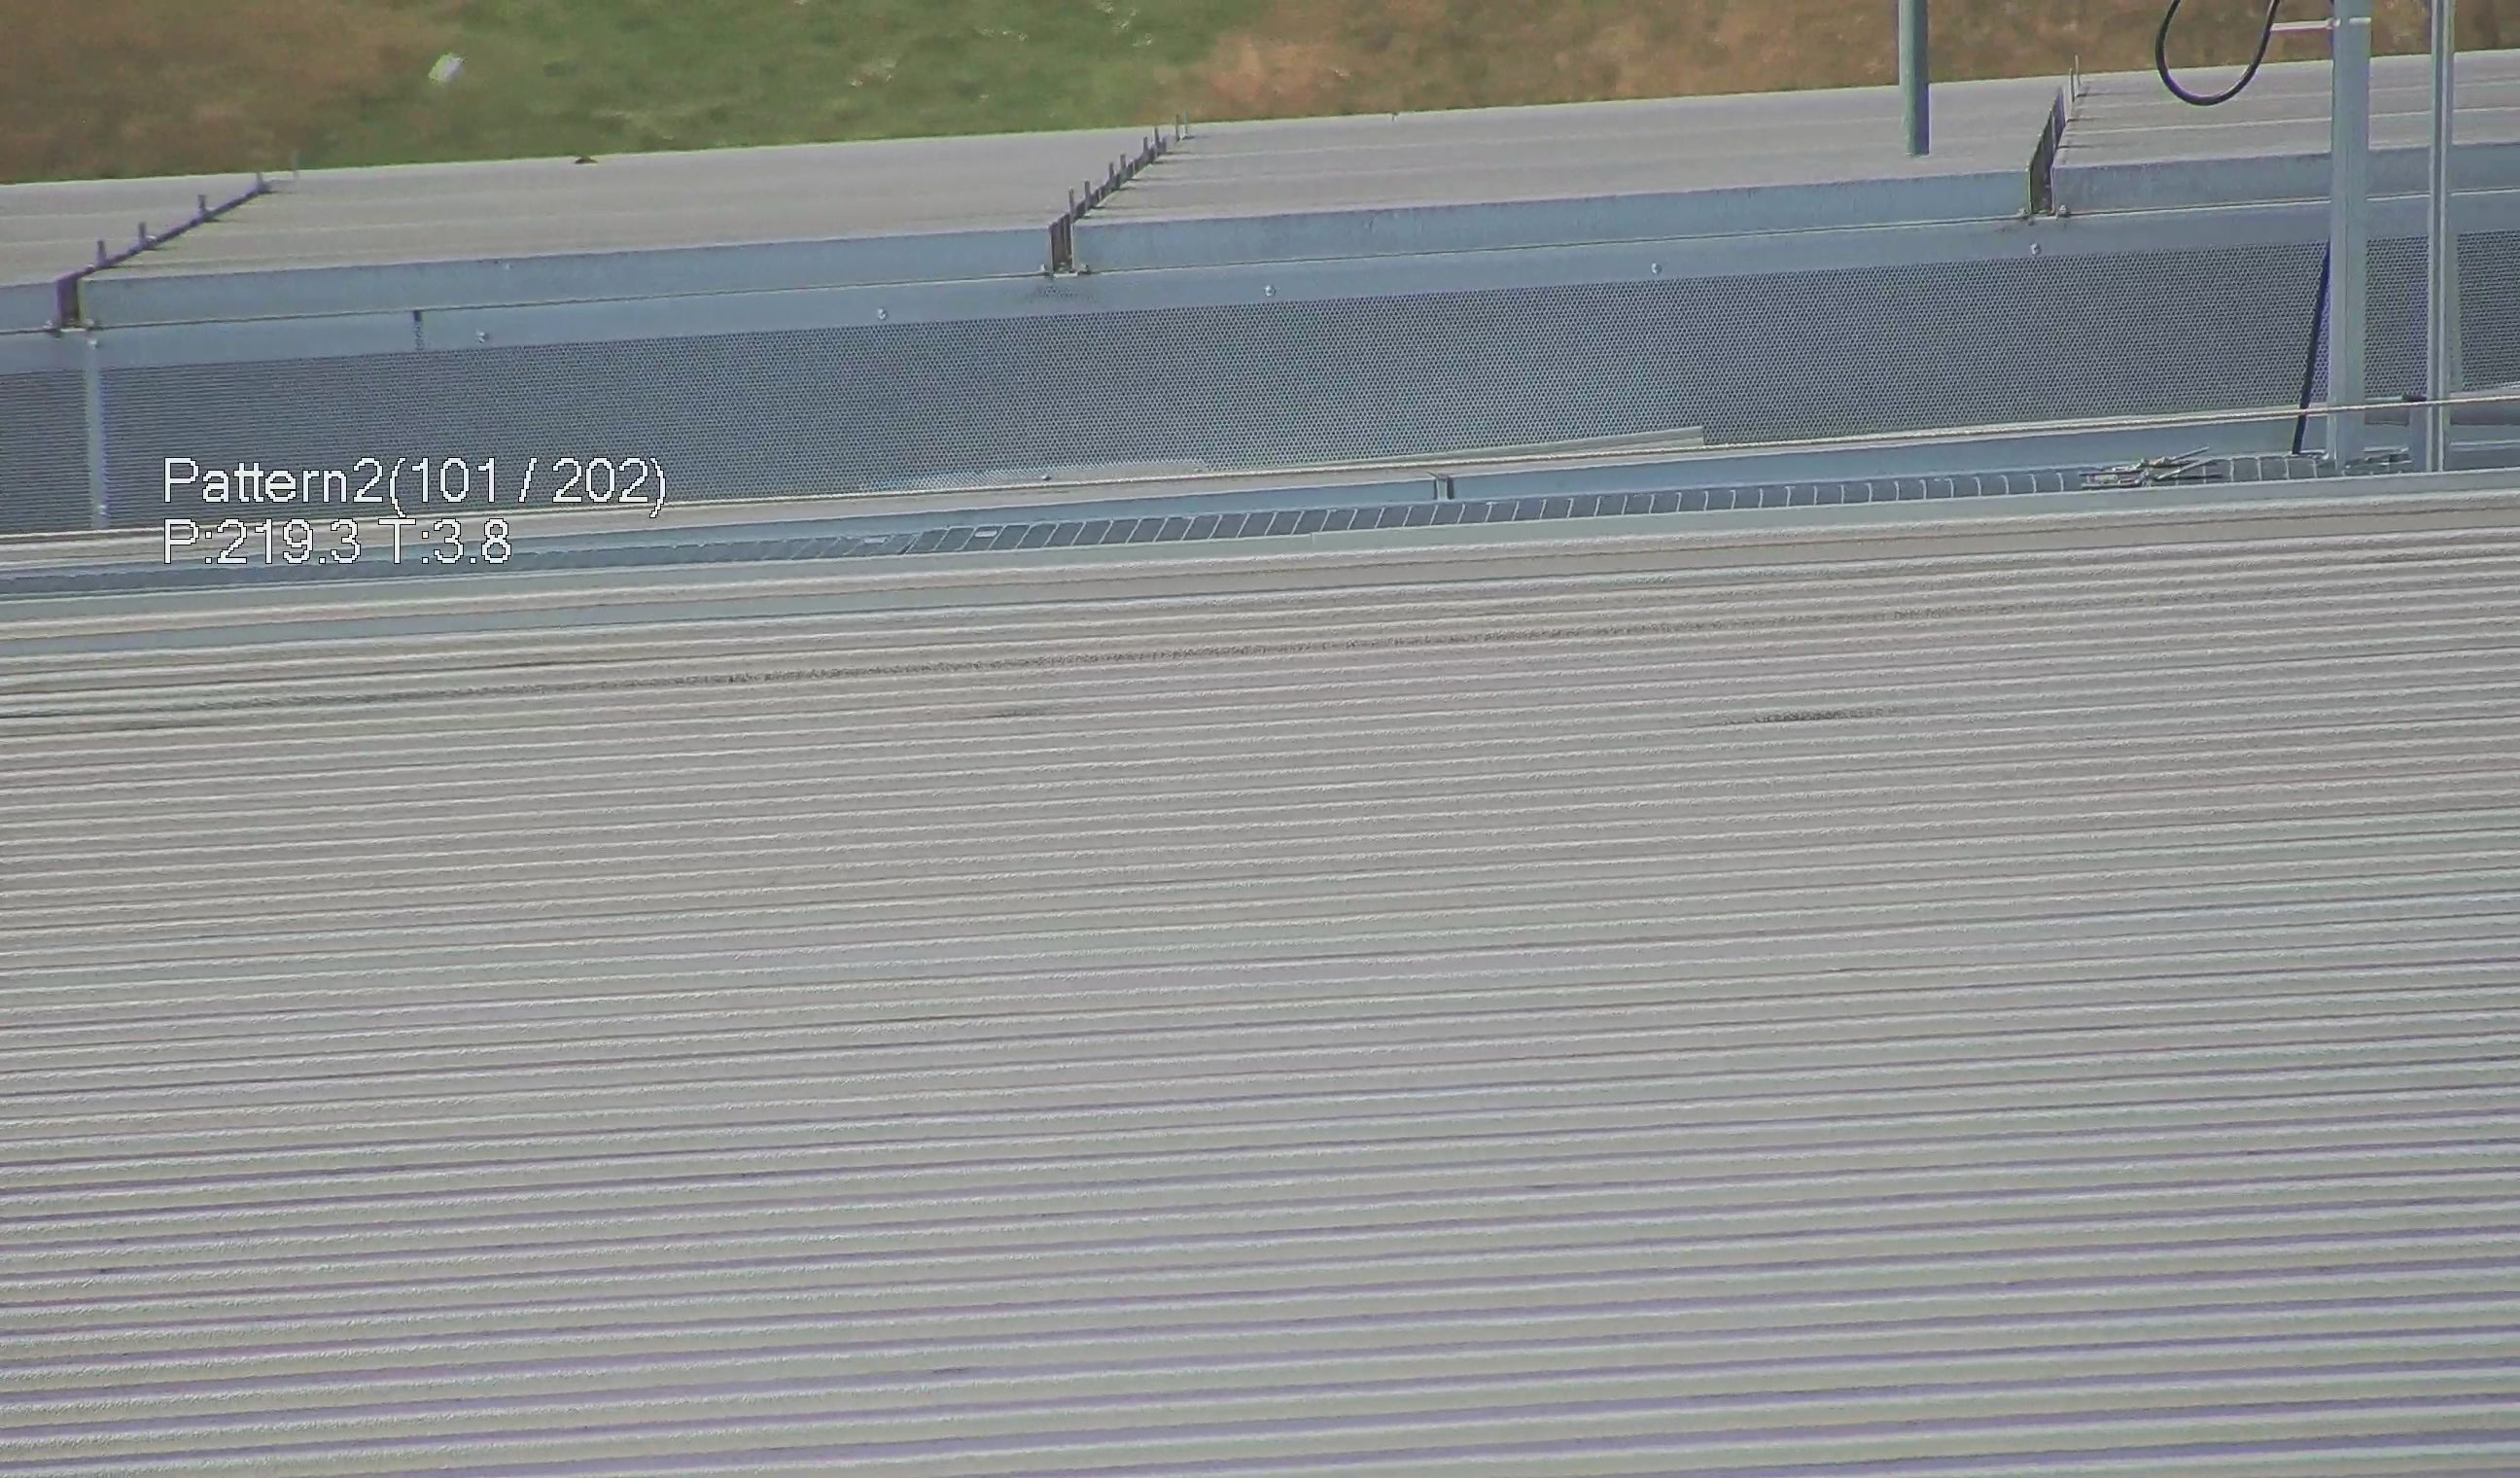Other: (2015, 69, 2098, 230)
